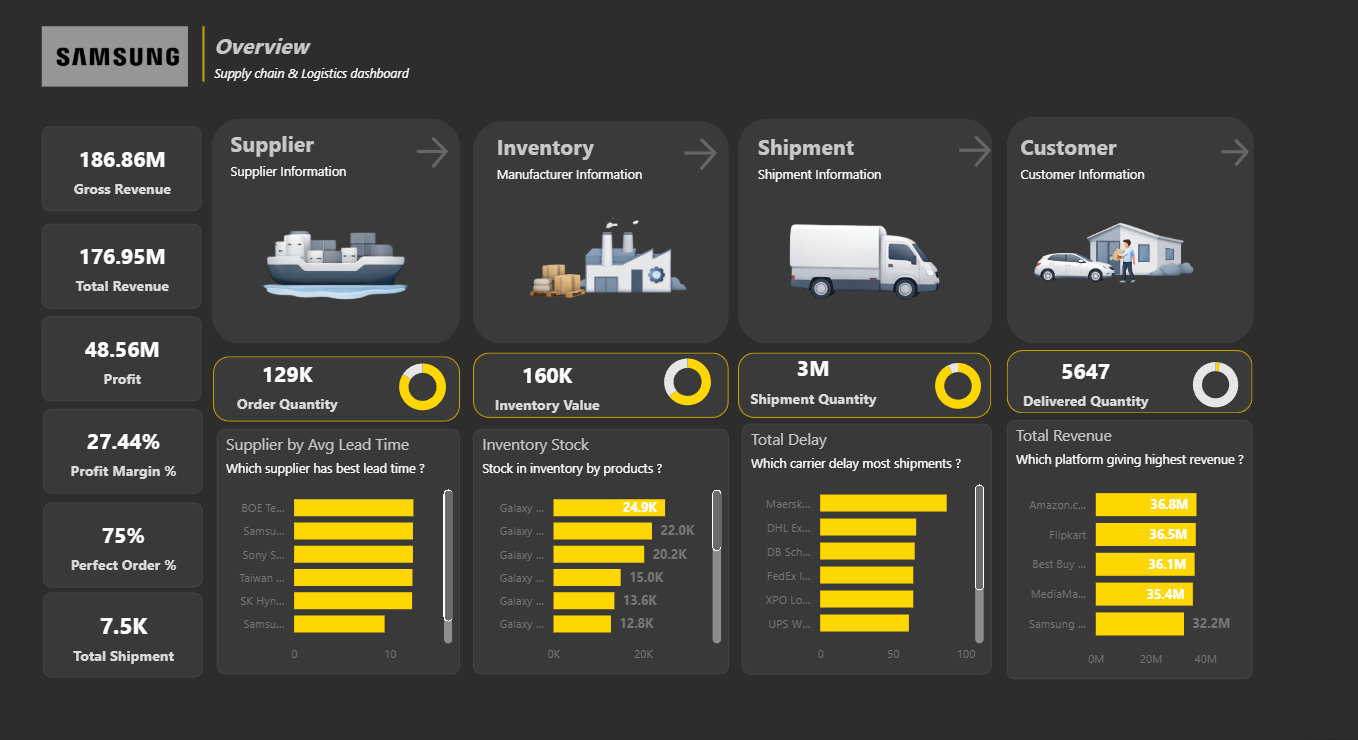

What the dashboard file says about the page in this screenshot:
{"tool":"powerbi","page":{"name":"Overview","canvas":[1280,720],"ordinal":1},"visuals":[{"type":"shape","box":[948.8,109.3,232.6,214],"z":0},{"type":"shape","box":[948.8,329.6,231.4,59.5],"z":0,"group":"g1"},{"type":"shape","box":[696.5,111.6,239.5,211.6],"z":1000},{"type":"shape","box":[696.5,331.4,238.4,61.6],"z":1000,"group":"g2"},{"type":"shape","box":[446.5,114,240.7,209.3],"z":2000},{"type":"shape","box":[446.5,331.4,240.7,61.6],"z":2000,"group":"g3"},{"type":"shape","box":[201.2,111.6,233.7,211.6],"z":3000},{"type":"image","box":[964,173.3,181.4,125.6],"z":4000},{"type":"image","box":[475.6,182.6,188.4,116.3],"z":5000},{"type":"actionButton","box":[639.5,124.4,47.7,40.7],"z":6000},{"type":"actionButton","box":[1145.6,123.3,35.6,40],"z":7000},{"type":"shape","title":"Customer","box":[962.8,124.4,169.8,47.7],"z":8000},{"type":"shape","title":"Inventory","box":[469.8,124.4,169.8,47.7],"z":9000},{"type":"shape","title":"Overview","box":[203.3,28.9,231.1,47.8],"z":10000},{"type":"shape","box":[181.1,24.4,24.4,52.2],"z":11000},{"type":"image","box":[41.1,24.4,137.8,56.7],"z":12000},{"type":"card","fields":{"Values":["MeasuresTable.Total_Review"]},"box":[40.7,210.4,150,80],"z":13000},{"type":"card","fields":{"Values":["MeasuresTable.Profit"]},"box":[40.7,297.1,150,80],"z":14000},{"type":"card","fields":{"Values":["MeasuresTable.Profit Margin %"]},"box":[42.9,384.9,150,80],"z":15000},{"type":"card","fields":{"Values":["MeasuresTable.Perfect_Order %"]},"box":[41.8,472.7,150,80],"z":16000},{"type":"card","fields":{"Values":["MeasuresTable.Total_Shipment"]},"box":[41.8,558.2,150,80],"z":17000},{"type":"card","fields":{"Values":["Sum(fact_sales.gross_revenue)"]},"box":[41.1,118.9,150,80],"z":18000},{"type":"actionButton","box":[898.9,122.2,50,40],"z":19000},{"type":"shape","title":"Shipment","box":[715.1,124.4,169.8,47.7],"z":20000},{"type":"image","box":[726.7,175.6,173.3,130.2],"z":21000},{"type":"clusteredBarChart","title":"Supplier by Avg Lead Time","fields":{"Category":["dim_supplier.supplier_name"],"Y":["MeasuresTable.Avg_Lead_Time"]},"box":[205.8,403.5,229.1,231.4],"z":22000},{"type":"clusteredBarChart","title":"Inventory Stock","fields":{"Y":["MeasuresTable.Inventory_Value"],"Category":["dim_product.product_name"]},"box":[446.5,403.5,240.7,231.4],"z":23000},{"type":"clusteredBarChart","title":"Total Delay","fields":{"Y":["MeasuresTable.Total_Delay"],"Category":["fact_shipment.carrier"]},"box":[700,398.8,234.9,236],"z":24000},{"type":"clusteredBarChart","title":"Total Revenue","fields":{"Y":["MeasuresTable.Total_Revenue"],"Category":["dim_customer.customer_name"]},"box":[948.8,395.3,231.4,244.2],"z":25000},{"type":"group","id":"g1","title":"Group 1","box":[948.8,327.9,232.6,66.3],"z":26000},{"type":"group","id":"g2","title":"Group 2","box":[696.5,325.6,239.5,69.8],"z":27000},{"type":"card","fields":{"Values":["MeasuresTable.Total_Shipment_Quantity"]},"box":[702.2,325.6,130.6,62.8],"z":27000,"group":"g2"},{"type":"group","id":"g3","title":"Group 3","box":[446.5,326.7,236,68.6],"z":28000},{"type":"group","id":"g4","title":"Group 5","box":[202.3,327.9,232.6,68.6],"z":29000},{"type":"donutChart","fields":{"Y":["MeasuresTable.Total_Shipment","MeasuresTable.Total_Delay"]},"box":[871.6,330,64,65.6],"z":29000,"group":"g2"},{"type":"image","box":[229.1,184.9,169.8,114],"z":30000},{"type":"shape","title":"Supplier","box":[218.6,120.9,169.8,47.7],"z":31000},{"type":"actionButton","box":[388.4,111.6,39.5,64],"z":32000},{"type":"group","id":"g5","title":"Group 4","box":[202.3,331.4,232.6,65.1],"z":36000,"group":"g4"},{"type":"card","fields":{"Values":["MeasuresTable.Order_QTY"]},"box":[202.3,327.9,140.2,68.6],"z":37000,"group":"g4"},{"type":"shape","box":[202.3,334.9,232.6,61.6],"z":39000,"group":"g5"},{"type":"donutChart","fields":{"Y":["MeasuresTable.Order_QTY","MeasuresTable.Defect_Rate"]},"box":[365.9,331.4,67.8,65.1],"z":42000,"group":"g5"},{"type":"card","fields":{"Values":["MeasuresTable.Inventory_Value"]},"box":[451.3,330.2,130.6,65.1],"z":43000,"group":"g3"},{"type":"donutChart","fields":{"Y":["MeasuresTable.Inventory_Value","MeasuresTable.Safety_Stock"]},"box":[614.6,326.7,67.7,65.1],"z":44000,"group":"g3"},{"type":"card","fields":{"Values":["MeasuresTable.Total_Delivered_Quantity"]},"box":[949.3,327.9,148.9,63.3],"z":44500,"group":"g1"},{"type":"donutChart","fields":{"Y":["MeasuresTable.Total_Delivered_Quantity","MeasuresTable.Total_QTY_Delay"]},"box":[1110,330.5,71.1,63.3],"z":45000,"group":"g1"}]}

Visuals, with their boxes on the page's 1280x720 design canvas (x1, y1, x2, y2). These are canvas units, not pixel positions in the 1358x740 screenshot, which may show the page scaled, cropped or inside an application window:
shape: region(949, 109, 1181, 323)
shape: region(949, 330, 1180, 389)
shape: region(696, 112, 936, 323)
shape: region(696, 331, 935, 393)
shape: region(446, 114, 687, 323)
shape: region(446, 331, 687, 393)
shape: region(201, 112, 435, 323)
image: region(964, 173, 1145, 299)
image: region(476, 183, 664, 299)
actionButton: region(640, 124, 687, 165)
actionButton: region(1146, 123, 1181, 163)
"Customer" shape: region(963, 124, 1133, 172)
"Inventory" shape: region(470, 124, 640, 172)
"Overview" shape: region(203, 29, 434, 77)
shape: region(181, 24, 206, 77)
image: region(41, 24, 179, 81)
card - MeasuresTable.Total_Review: region(41, 210, 191, 290)
card - MeasuresTable.Profit: region(41, 297, 191, 377)
card - MeasuresTable.Profit Margin %: region(43, 385, 193, 465)
card - MeasuresTable.Perfect_Order %: region(42, 473, 192, 553)
card - MeasuresTable.Total_Shipment: region(42, 558, 192, 638)
card - Sum(fact_sales.gross_revenue): region(41, 119, 191, 199)
actionButton: region(899, 122, 949, 162)
"Shipment" shape: region(715, 124, 885, 172)
image: region(727, 176, 900, 306)
"Supplier by Avg Lead Time" clusteredBarChart: region(206, 404, 435, 635)
"Inventory Stock" clusteredBarChart: region(446, 404, 687, 635)
"Total Delay" clusteredBarChart: region(700, 399, 935, 635)
"Total Revenue" clusteredBarChart: region(949, 395, 1180, 640)
"Group 1" group: region(949, 328, 1181, 394)
"Group 2" group: region(696, 326, 936, 395)
card - MeasuresTable.Total_Shipment_Quantity: region(702, 326, 833, 388)
"Group 3" group: region(446, 327, 682, 395)
"Group 5" group: region(202, 328, 435, 396)
donutChart - MeasuresTable.Total_Shipment x MeasuresTable.Total_Delay: region(872, 330, 936, 396)
image: region(229, 185, 399, 299)
"Supplier" shape: region(219, 121, 388, 169)
actionButton: region(388, 112, 428, 176)
"Group 4" group: region(202, 331, 435, 396)
card - MeasuresTable.Order_QTY: region(202, 328, 342, 396)
shape: region(202, 335, 435, 396)
donutChart - MeasuresTable.Order_QTY x MeasuresTable.Defect_Rate: region(366, 331, 434, 396)
card - MeasuresTable.Inventory_Value: region(451, 330, 582, 395)
donutChart - MeasuresTable.Inventory_Value x MeasuresTable.Safety_Stock: region(615, 327, 682, 392)
card - MeasuresTable.Total_Delivered_Quantity: region(949, 328, 1098, 391)
donutChart - MeasuresTable.Total_Delivered_Quantity x MeasuresTable.Total_QTY_Delay: region(1110, 330, 1181, 394)
